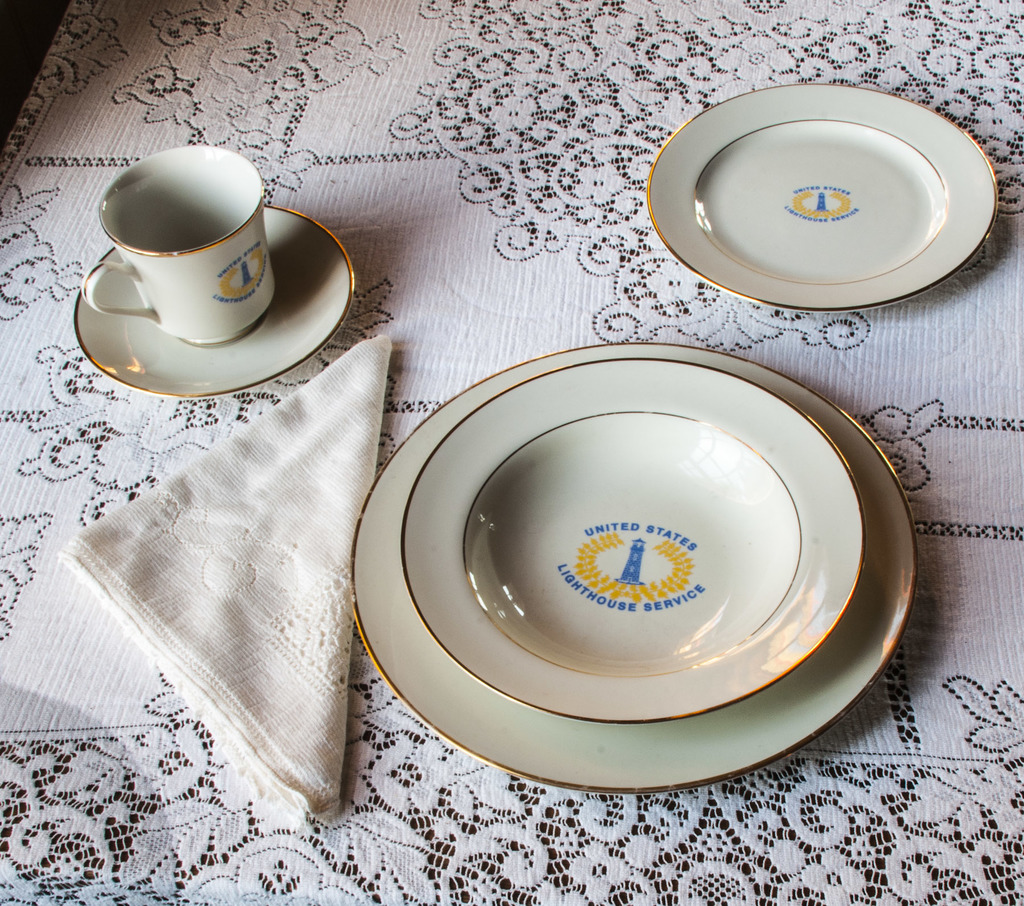plate: (397, 356, 867, 725), (646, 83, 998, 313), (72, 145, 354, 399)
